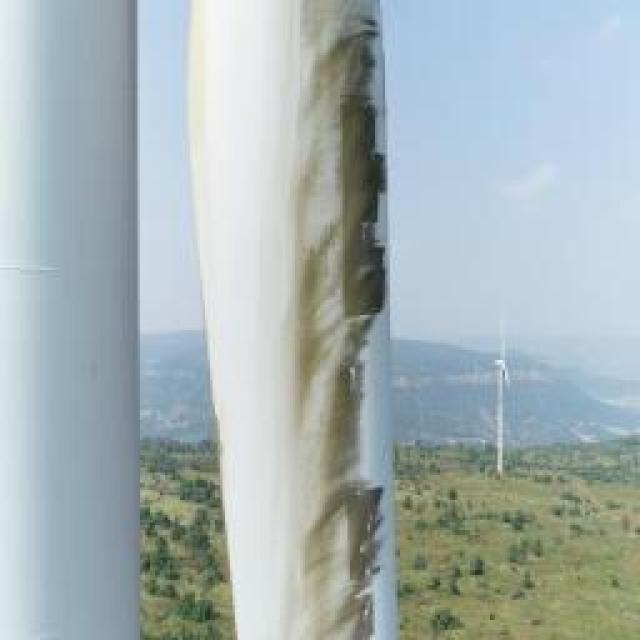Dirt: (285, 0, 396, 640)
